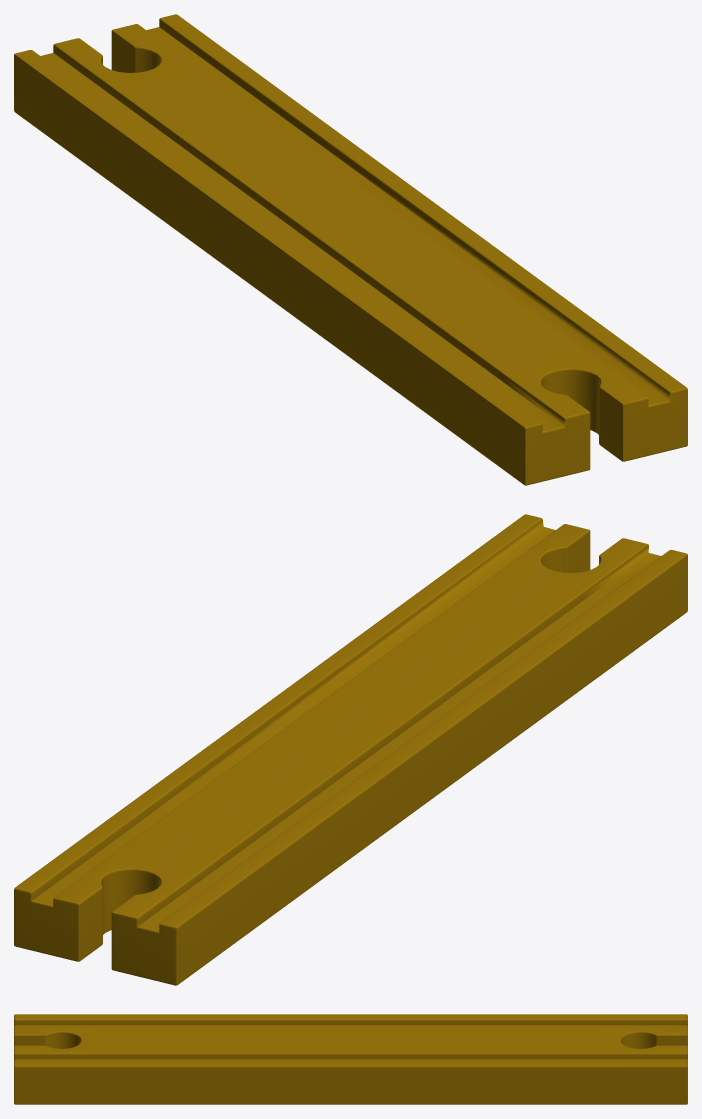
Rendered from Railway_duoNeg.fbx.
3 views of the same model, one above another, from view 1: azimuth 30°, elevation 25°; view 2: azimuth 150°, elevation 25°; view 3: azimuth 270°, elevation 25° (orthographic). The views are drawn at different scales.
Parts seen in each view (by area): view 1: Railway_duoNeg; view 2: Railway_duoNeg; view 3: Railway_duoNeg.
Part boxes in pixels (bbox=[...]): Railway_duoNeg: bbox=[14, 14, 687, 485]; Railway_duoNeg: bbox=[14, 514, 687, 985]; Railway_duoNeg: bbox=[14, 1014, 687, 1104].
Bounding box in the file's own units: 73.85 × 25.44 × 400.
